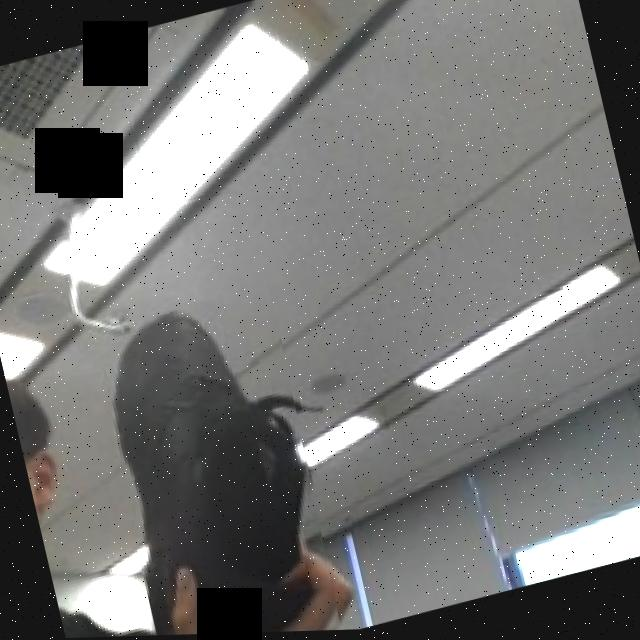shoe: (86, 282, 350, 638)
